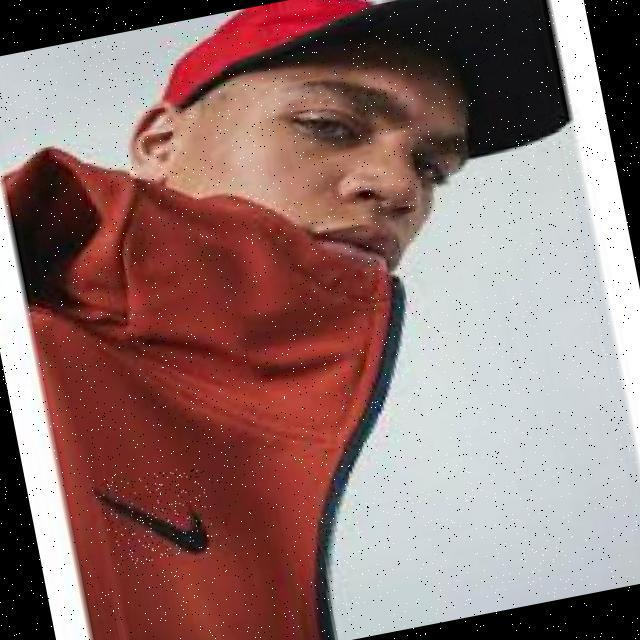Nike: (98, 465, 217, 568)
